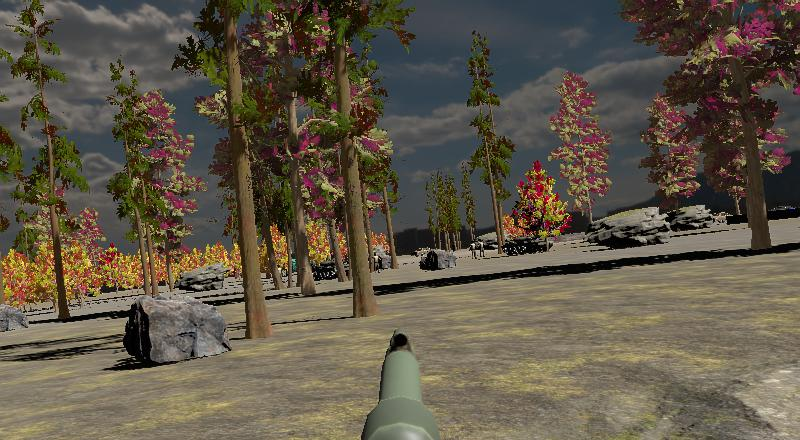Tank: (502, 233, 552, 257)
